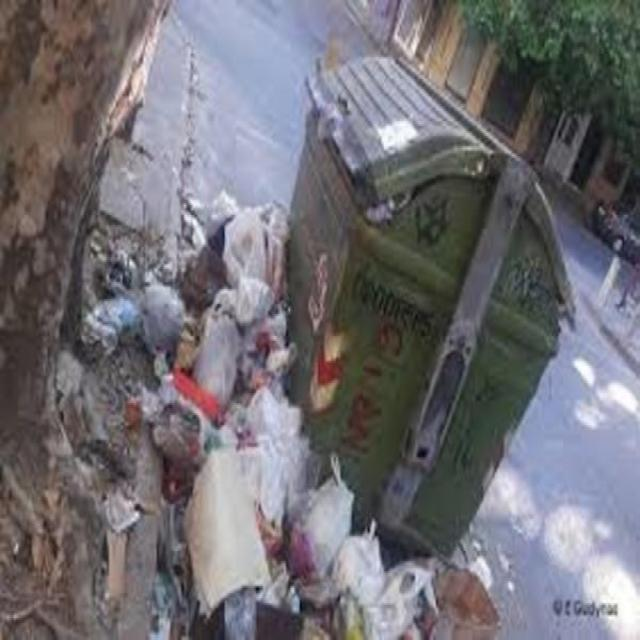garbage: (88, 184, 310, 638), (314, 445, 516, 638)
